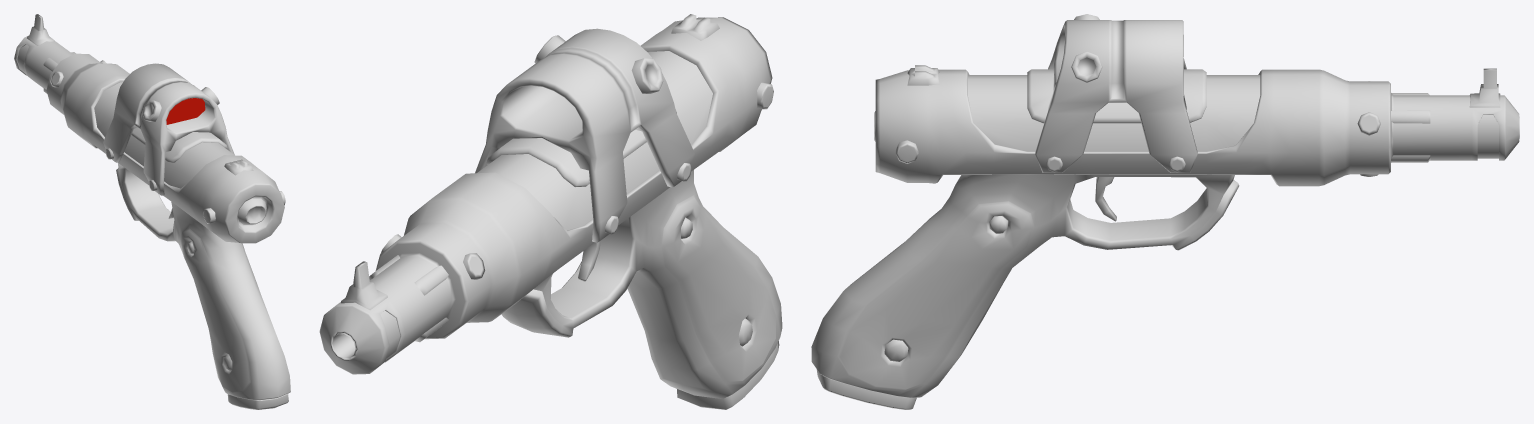
Rendered from blaster.fbx.
The picture shows the model from 3 angles, left to right: view 1: azimuth 30°, elevation 25°; view 2: azimuth 150°, elevation 25°; view 3: azimuth 270°, elevation 25°; orthographic projection. The views are drawn at different scales.
Parts seen in each view (by area): view 1: blaster_lo, calimator_lo, cooler_lo, clip_lo; view 2: blaster_lo, calimator_lo, clip_lo, hook_lo; view 3: blaster_lo, calimator_lo, clip_lo.
Part boxes in pixels (x1,y1,x2,y2): blaster_lo: (14,14,290,400); calimator_lo: (103,63,234,195); cooler_lo: (237,198,266,224); clip_lo: (227,394,288,409); blaster_lo: (319,14,782,398); calimator_lo: (475,28,694,242); clip_lo: (677,341,779,409); hook_lo: (578,241,600,281); blaster_lo: (811,65,1519,397); calimator_lo: (1035,14,1197,172); clip_lo: (816,369,916,409).
Bounding box in the file's own units: 207 × 639 × 1089.
